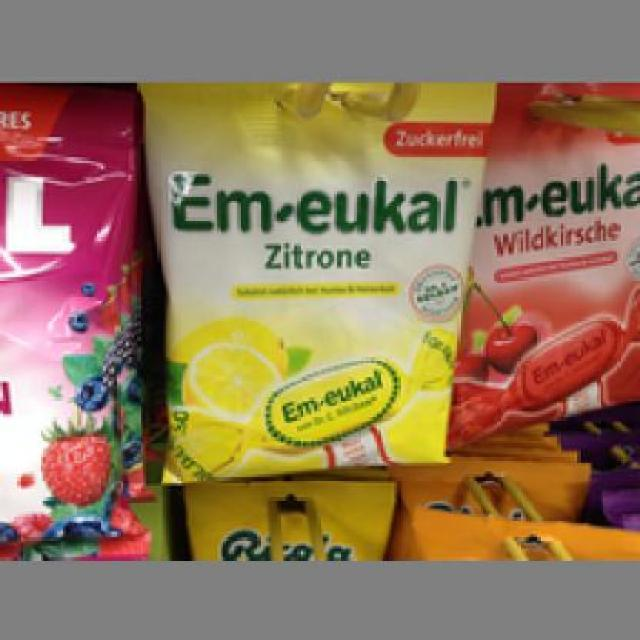Candy: (139, 82, 452, 478), (462, 74, 635, 440)
